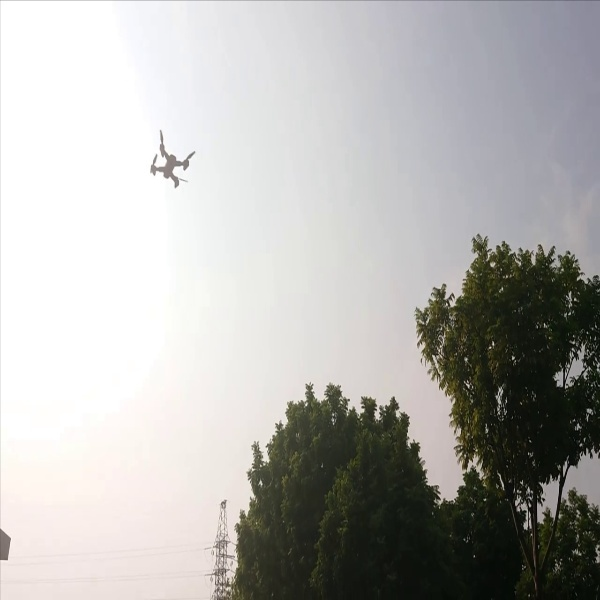drone: (141, 126, 201, 196)
